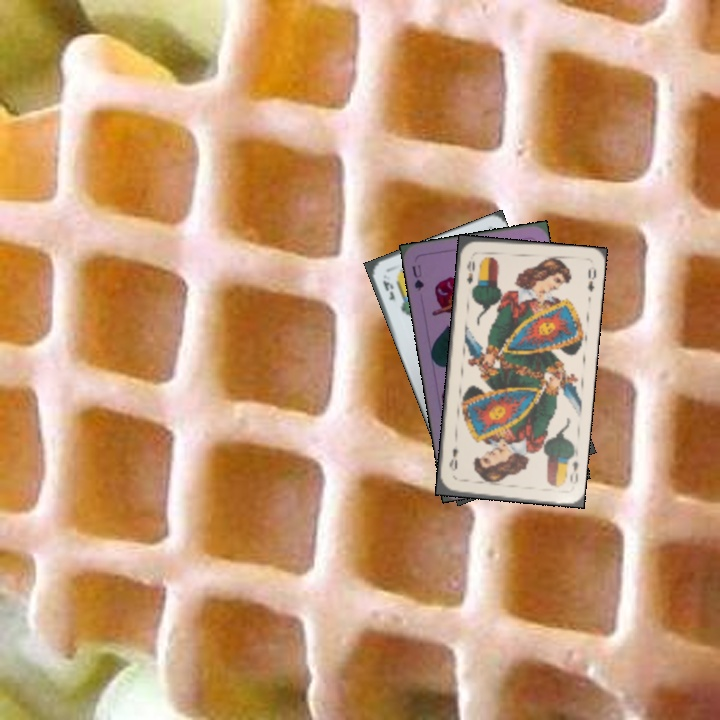EK: (379, 275, 397, 303)
EO: (566, 457, 581, 486), (463, 256, 477, 286)
GU: (408, 261, 426, 294)
